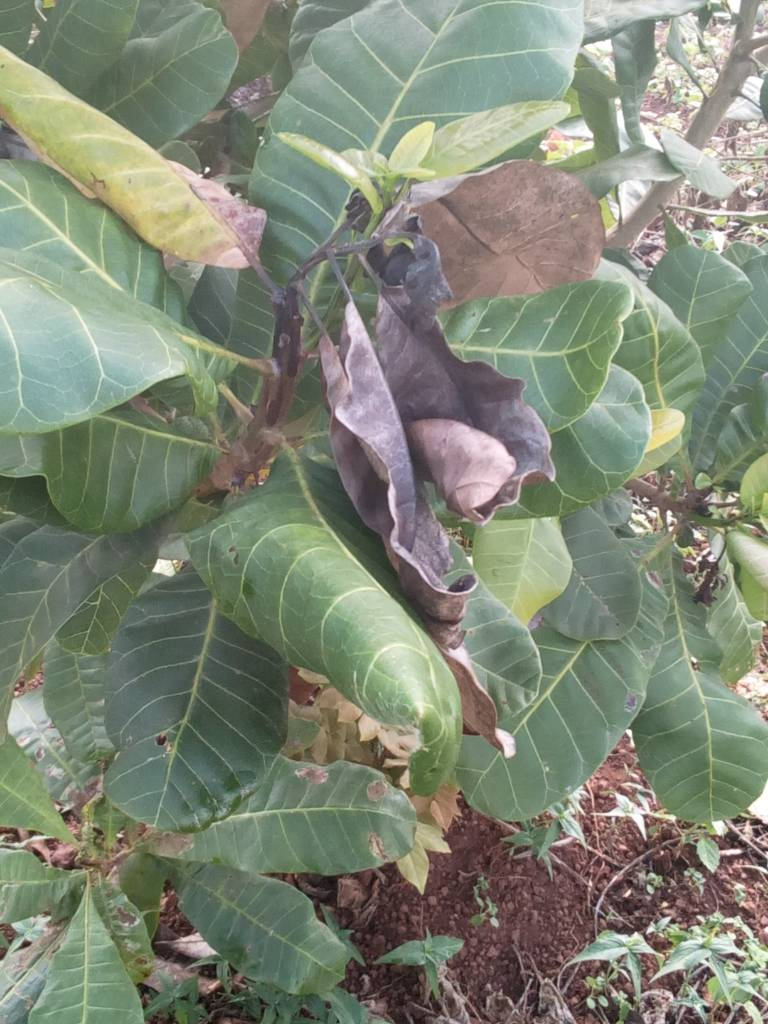Die-black: (302, 286, 480, 674), (346, 225, 564, 524), (386, 162, 622, 312)
